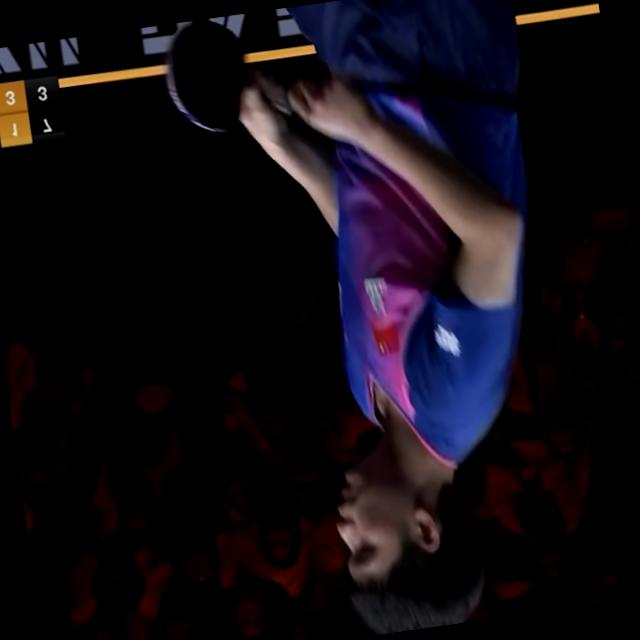TT Racket: (161, 14, 246, 147)
